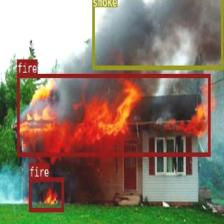fire: (17, 73, 210, 156), (29, 177, 63, 211)
smoke: (92, 0, 222, 68)
